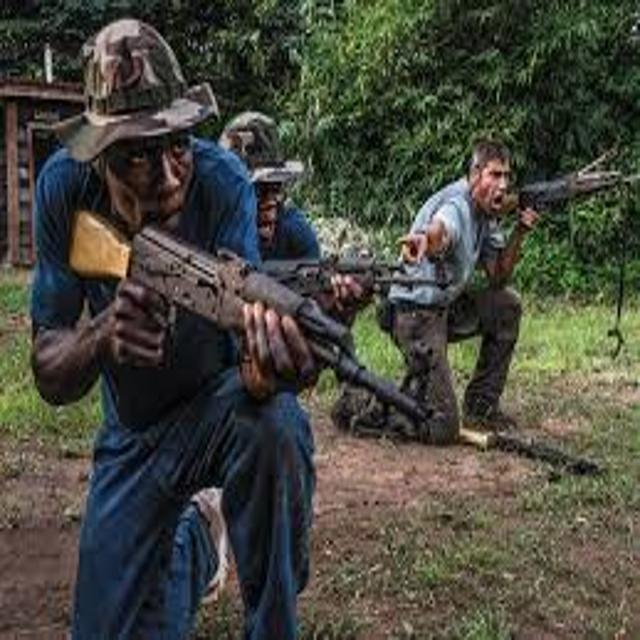gun: (33, 179, 461, 449), (493, 142, 640, 243)
poacher: (9, 17, 366, 627), (288, 100, 595, 480), (164, 85, 393, 407)
